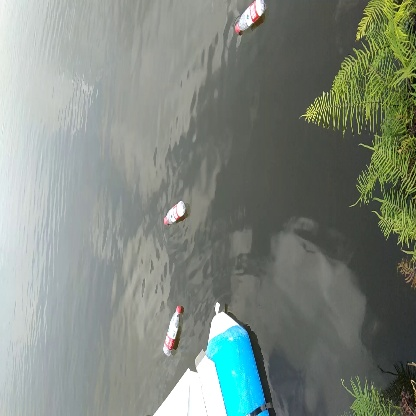bottle: (160, 306, 188, 358), (230, 1, 267, 38), (161, 197, 187, 228)
